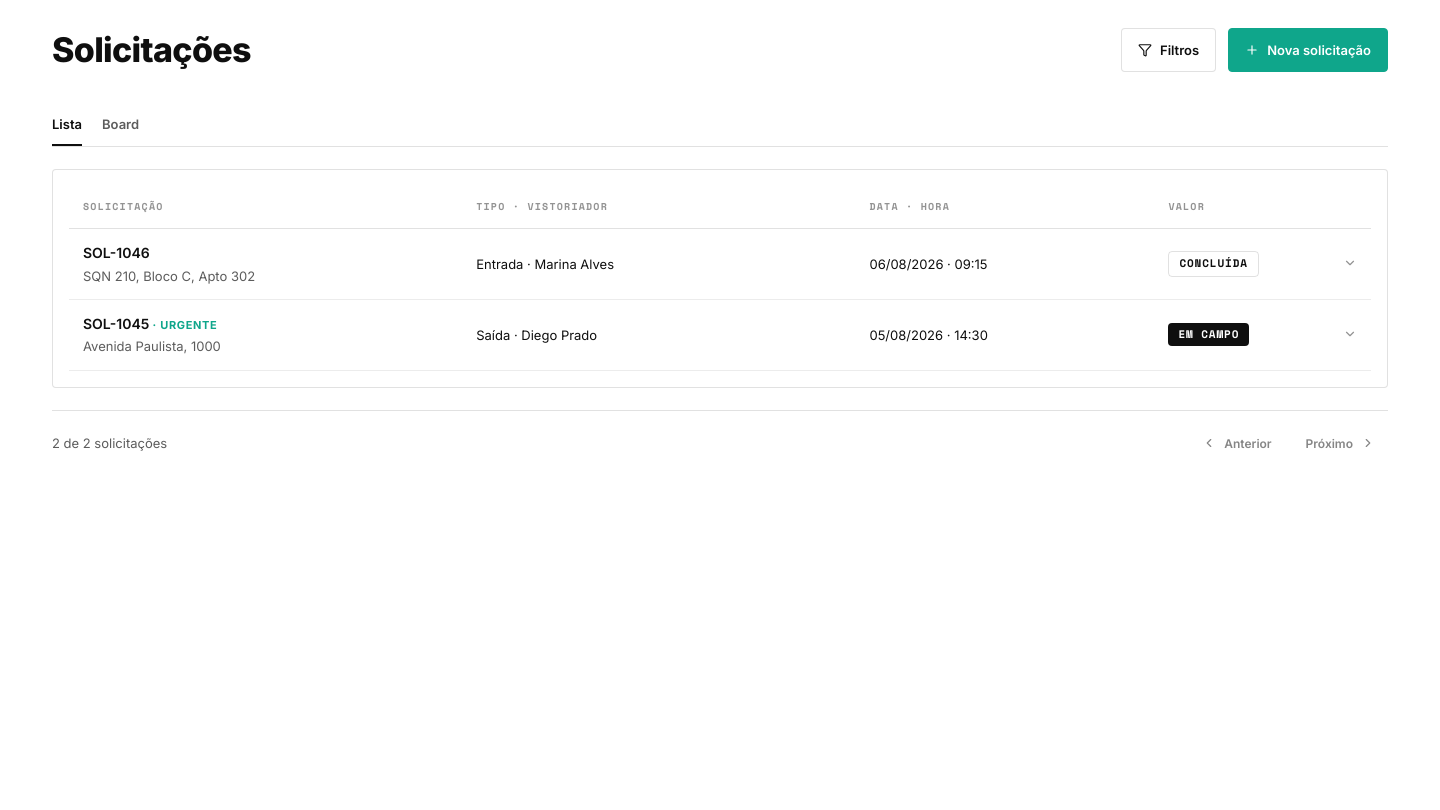
Test: Requests Component › should render filter chips inside the popover
Click the button "Filtros". click: point(1169, 50)
box: [1121, 28, 1216, 72]
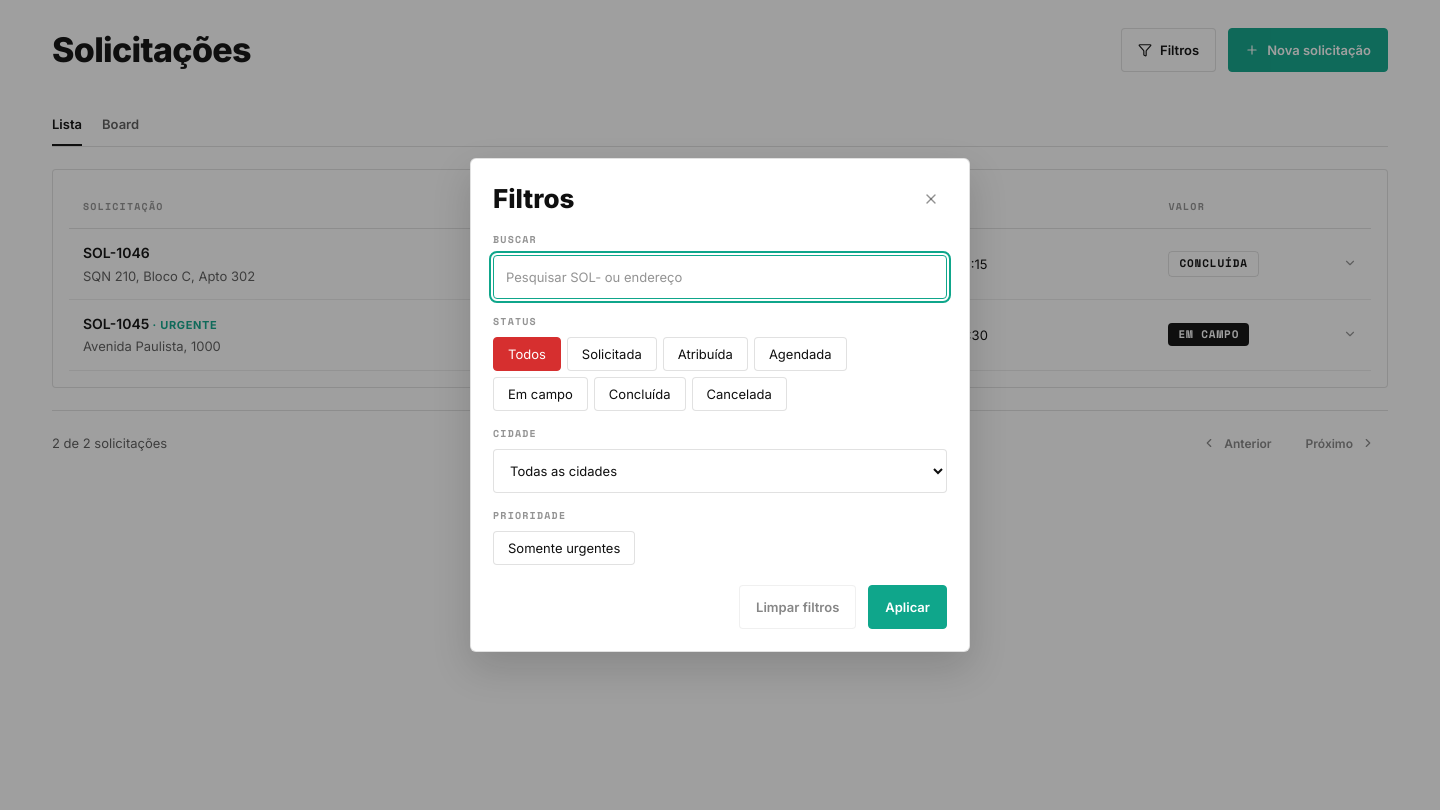
Expected: the dialog is shown, [470, 158, 970, 652]
Expected: the button "Todos" is shown, [493, 337, 561, 371]
